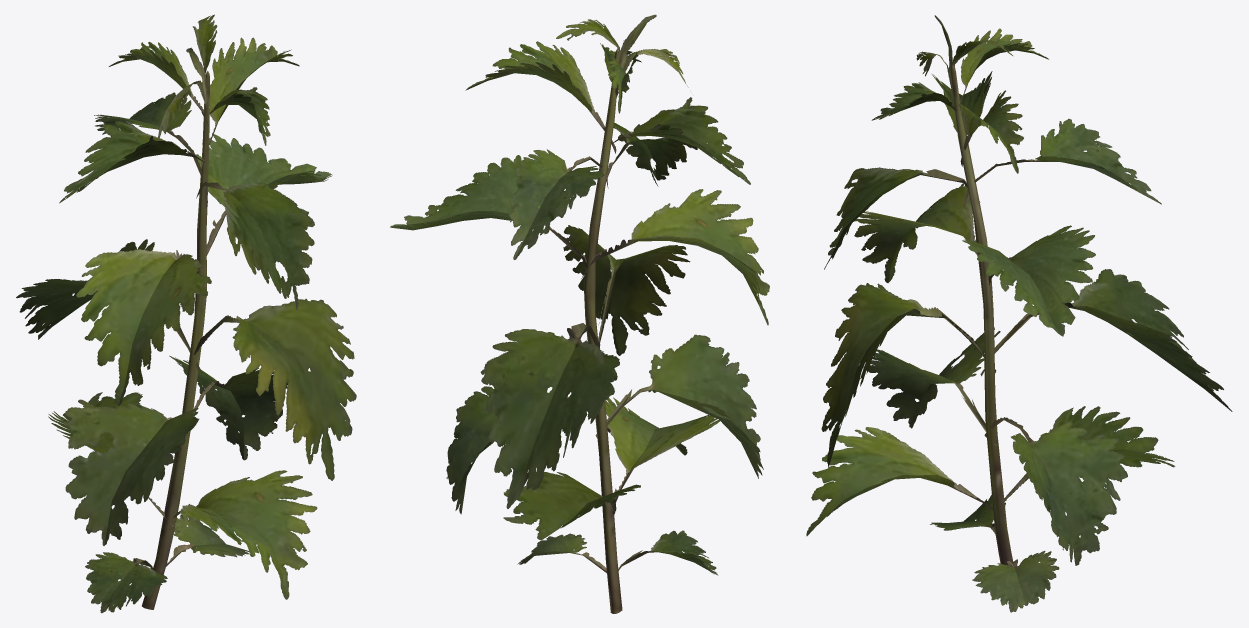
3 views of the same model, side by side, from view 1: azimuth 30°, elevation 25°; view 2: azimuth 150°, elevation 25°; view 3: azimuth 270°, elevation 25° (orthographic). The views are drawn at different scales.
Visible parts, largest first — view 1: nettle_plant__a_lod0; view 2: nettle_plant__a_lod0; view 3: nettle_plant__a_lod0.
Boxes of the visible parts, left/top/right/bottom form: nettle_plant__a_lod0: left=16, top=14, right=356, bottom=613; nettle_plant__a_lod0: left=390, top=14, right=769, bottom=613; nettle_plant__a_lod0: left=806, top=15, right=1232, bottom=612.
Bounding box in the file's own units: 0.0796 × 0.1357 × 0.0909.
1 material, 1 textured.
